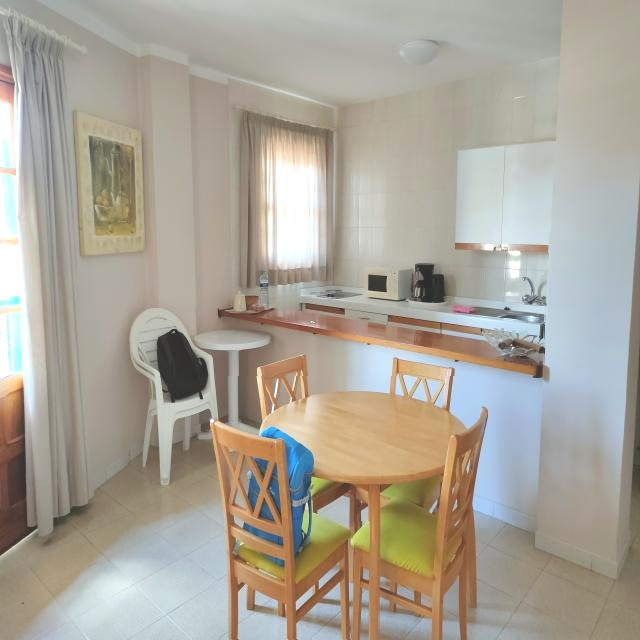cabinet: (222, 320, 544, 521), (456, 142, 556, 253), (301, 304, 487, 341)
chair: (211, 421, 352, 639), (380, 408, 488, 640), (128, 309, 219, 487), (256, 356, 310, 421), (391, 359, 454, 412), (380, 475, 443, 511), (351, 522, 370, 639)
countertop: (221, 311, 539, 376), (302, 297, 538, 335)
microwave: (364, 267, 414, 301)
shower: (453, 306, 545, 322), (523, 277, 547, 306)
sofa: (300, 286, 363, 299)
stove: (259, 393, 467, 640), (195, 331, 270, 436), (197, 431, 213, 441)
